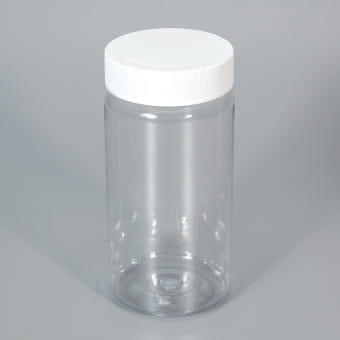plastic: (104, 25, 237, 314)
